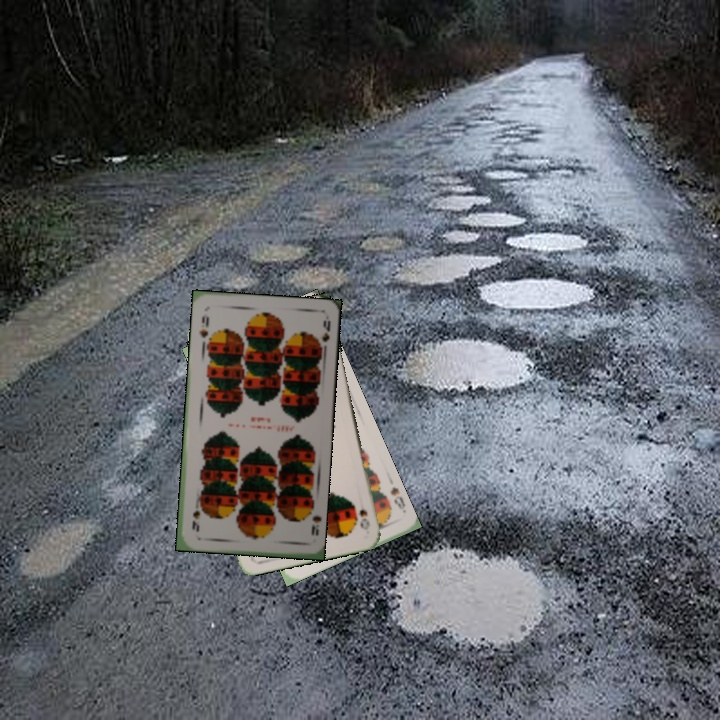S8: (386, 482, 408, 516)
S9: (302, 502, 322, 538), (195, 310, 212, 341)
SO: (350, 499, 372, 532)
